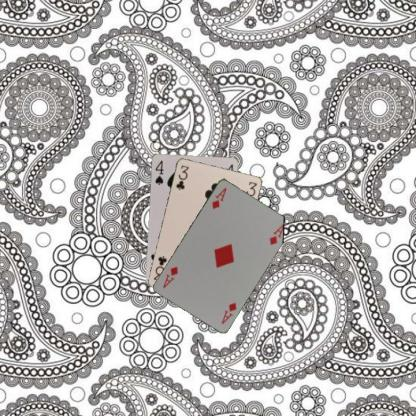3c: (173, 162, 190, 192)
4s: (152, 158, 164, 186)
Ad: (219, 300, 238, 326), (209, 185, 228, 210)
